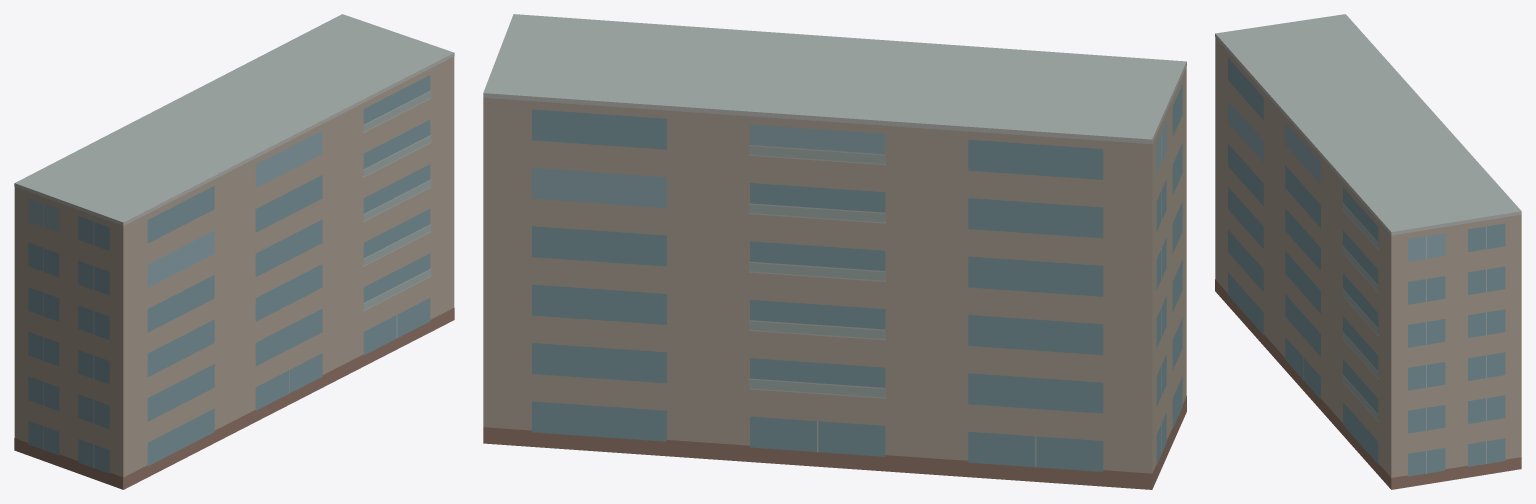
File: survey-upis-32867562.glb
3 views of the same model, side by side, from view 1: azimuth 30°, elevation 25°; view 2: azimuth 150°, elevation 25°; view 3: azimuth 270°, elevation 25° (orthographic). The views are drawn at different scales.
Parts seen in each view (by area): view 1: survey-upis-32867562.tmp; view 2: survey-upis-32867562.tmp; view 3: survey-upis-32867562.tmp.
Part boxes in pixels (box(x1,y1,x2,y2)): survey-upis-32867562.tmp: box(14, 14, 454, 489); survey-upis-32867562.tmp: box(483, 14, 1186, 489); survey-upis-32867562.tmp: box(1215, 14, 1521, 489).
Bounding box in the file's own units: 33.28 × 18.33 × 19.77.
